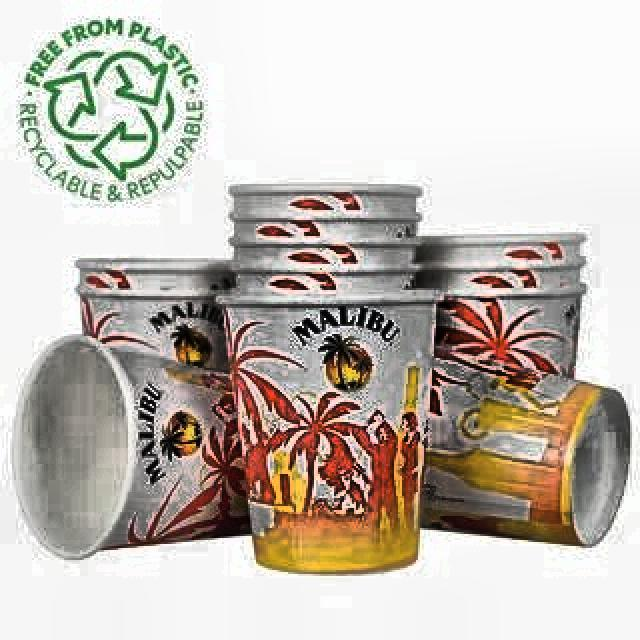Cup: (218, 285, 442, 579), (7, 330, 276, 554), (386, 341, 632, 554), (416, 226, 594, 482), (81, 239, 239, 502)
